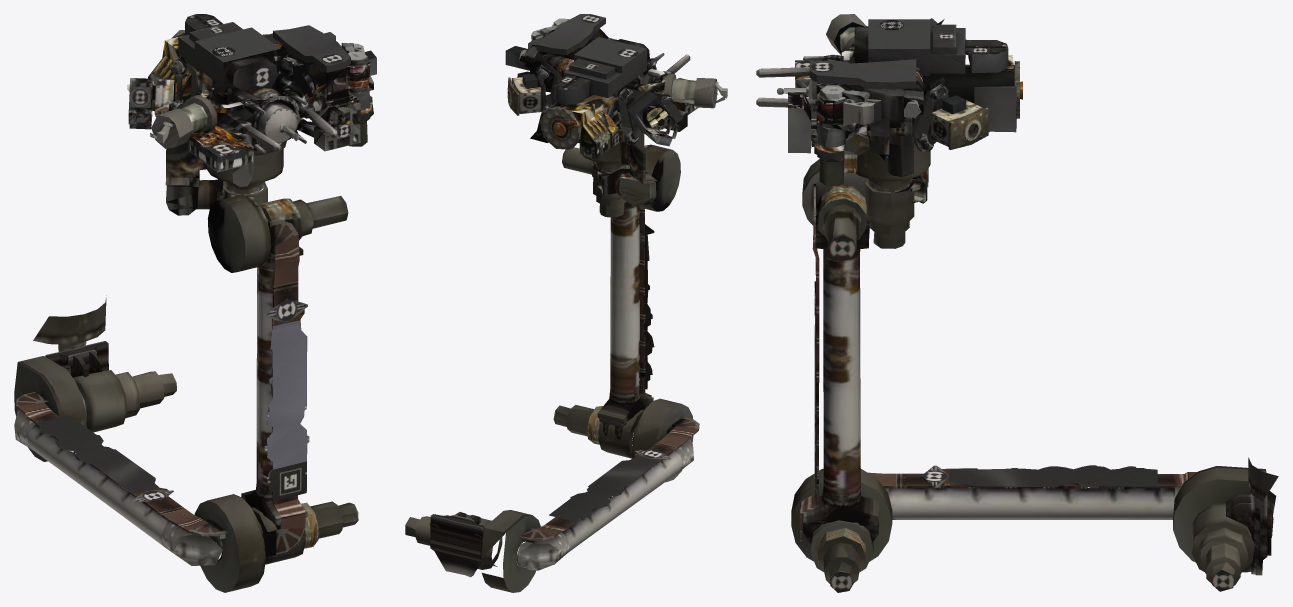
Rendered from curiosity-arm.glb.
3 views of the same model, side by side, from view 1: azimuth 30°, elevation 25°; view 2: azimuth 150°, elevation 25°; view 3: azimuth 270°, elevation 25° (orthographic). The views are drawn at different scales.
Visible parts, largest first — view 1: arm_turret, arm_fore, arm_upper; view 2: arm_turret, arm_upper, arm_fore; view 3: arm_turret, arm_upper, arm_fore.
Part boxes in pixels (x1,y1,x2,y2): arm_turret: (127, 14, 376, 272); arm_fore: (161, 260, 358, 592); arm_upper: (14, 295, 191, 548); arm_turret: (505, 14, 727, 217); arm_upper: (405, 427, 683, 592); arm_fore: (553, 202, 699, 482); arm_turret: (756, 14, 1022, 261); arm_upper: (877, 457, 1278, 591); arm_fore: (791, 248, 892, 592).
Bounding box in the file's own units: 0.6397 × 1.31 × 1.13.
4 materials, 4 textured.
